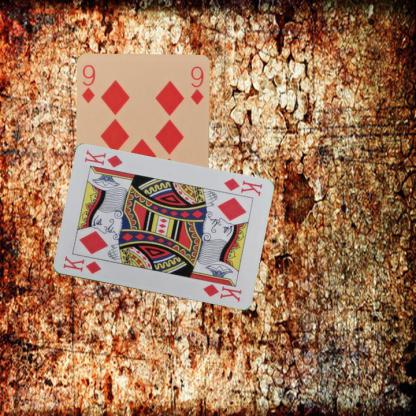9d: (79, 63, 97, 104)
Kd: (60, 253, 102, 276), (221, 176, 264, 198)
